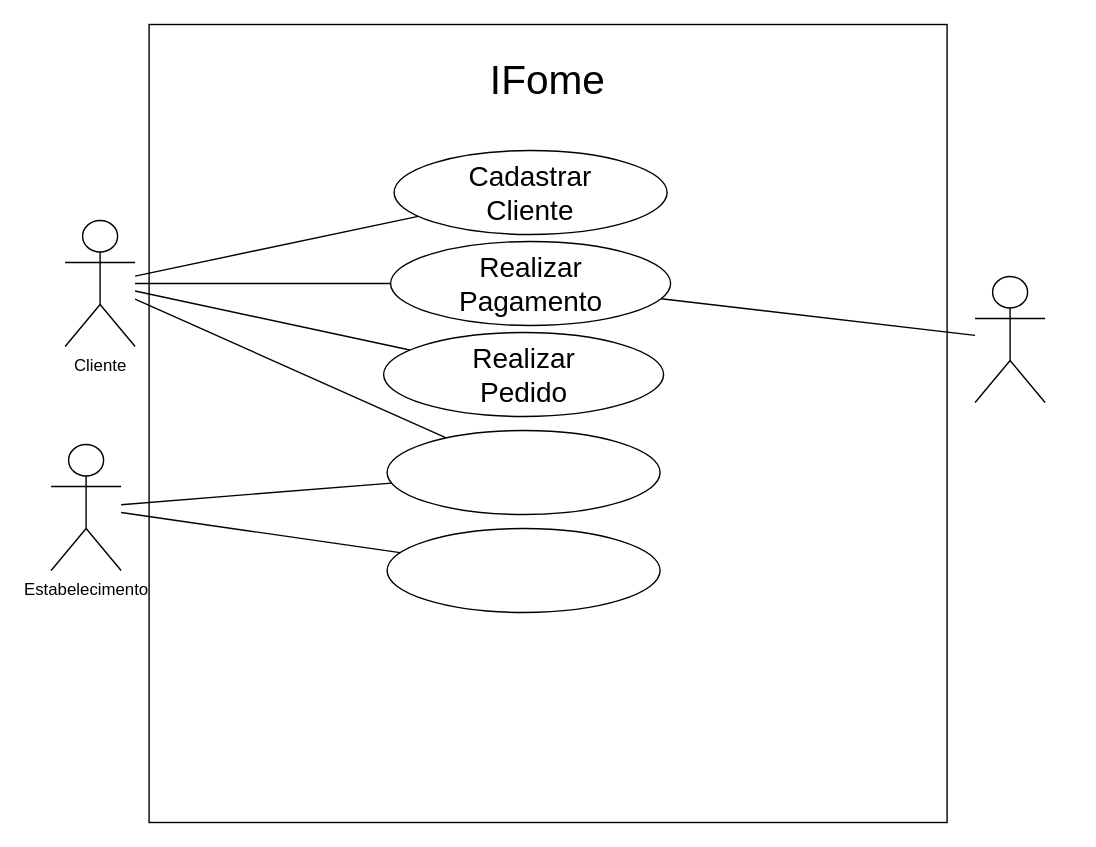
Image size: 1096x847. Some labels were removed from this diagram. Each missing label, with the centre of its shape:
"Autenticar Usuario" goes at (x=523, y=471).
"Confirmar Pedido" goes at (x=523, y=569).
"Estabelecimento Financeiro" goes at (x=1009, y=338).
